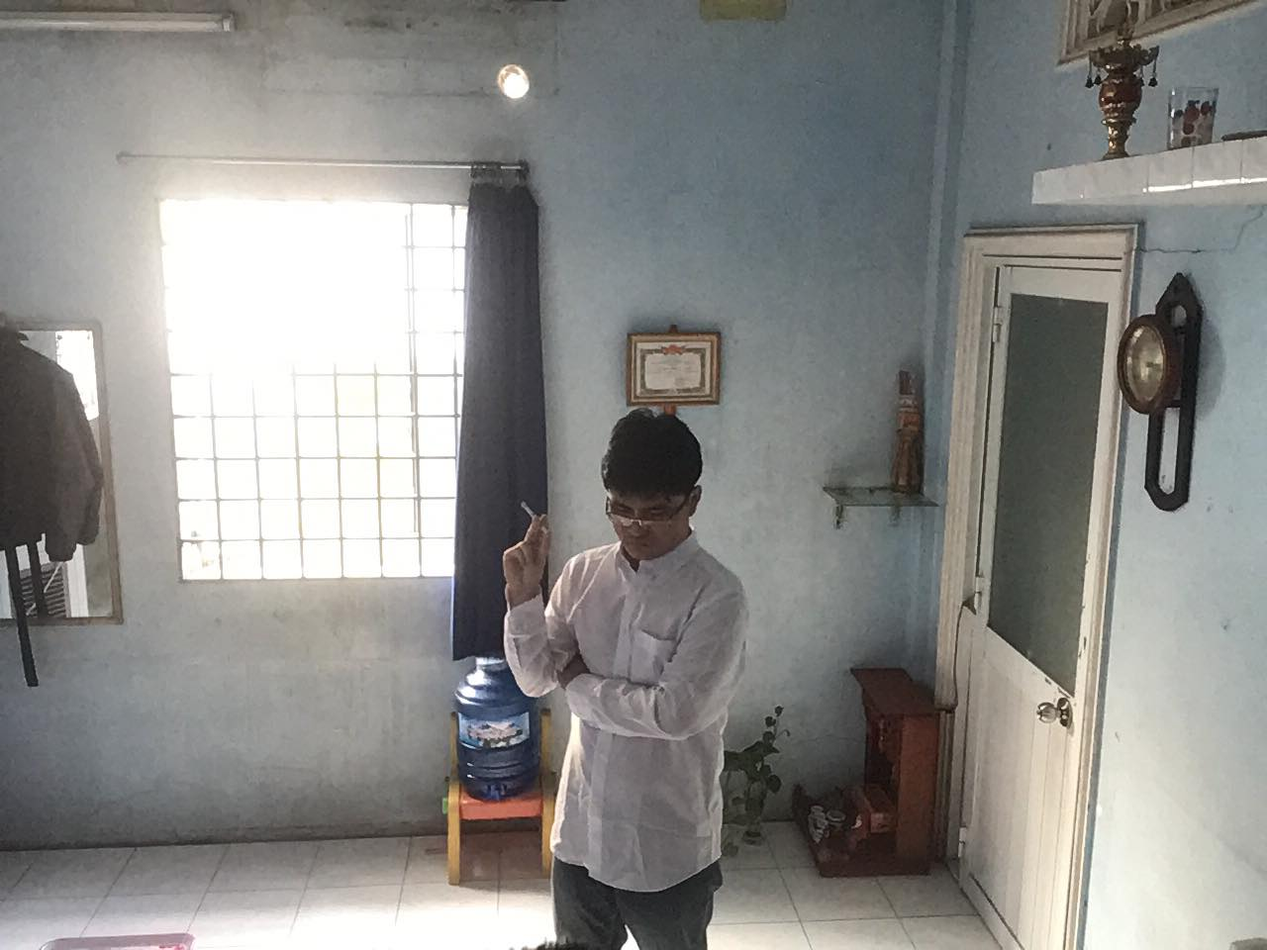cigarette: (516, 502, 545, 522)
person: (481, 398, 772, 950)
